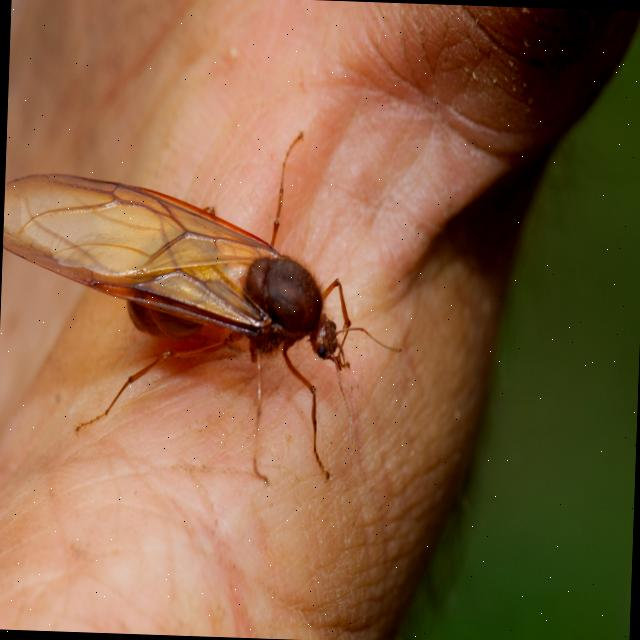Alive-Male-Alate: (0, 121, 408, 490)
